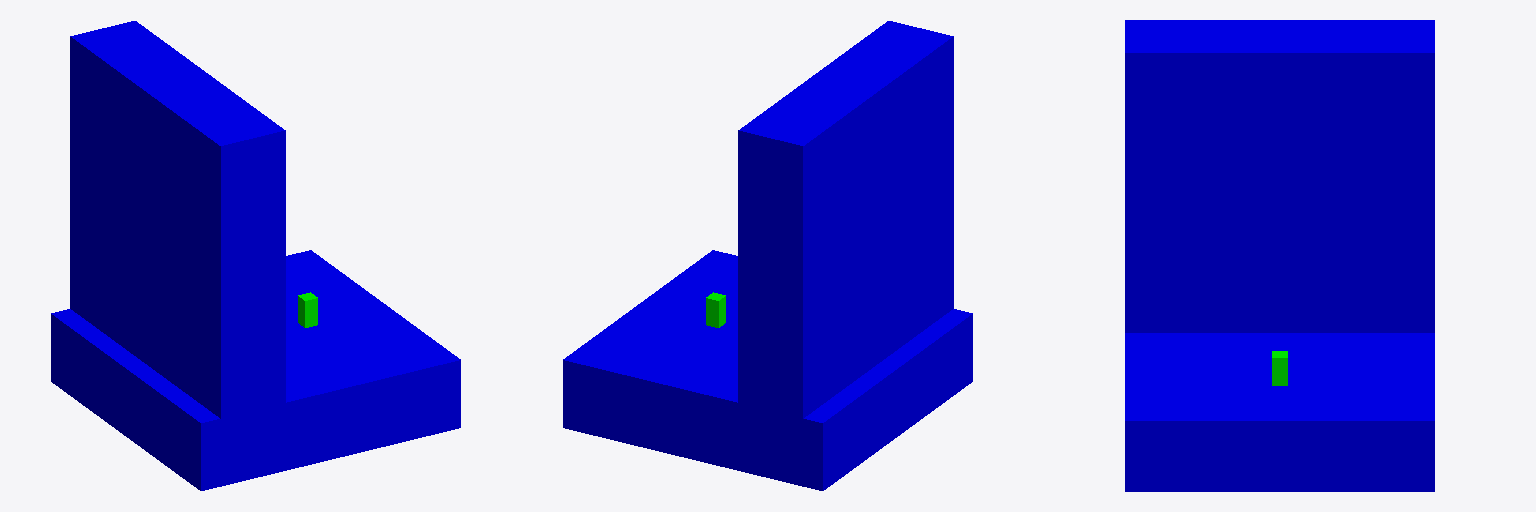
The robot description file, URDF, robot "abb_irb140":
<?xml version="1.0" ?>
<!-- =================================================================================== -->
<!-- |    This document was autogenerated by xacro from irb140.xacro                   | -->
<!-- |    EDITING THIS FILE BY HAND IS NOT RECOMMENDED                                 | -->
<!-- =================================================================================== -->
<robot name="abb_irb140" xmlns:xacro="http://ros.org/wiki/xacro">
  <!-- link list -->
  <link name="base_link">
    <visual>
      <origin rpy="0 0 0" xyz="0 0 0"/>
      <geometry>
        <mesh filename="package://abb_irb140_support/meshes/irb140/visual/base_link.stl" scale="0.01 0.01 0.01"/>
      </geometry>
      <material name="abb_orange">
        <color rgba="1 0.43 0 1"/>
      </material>
    </visual>
    <collision>
      <geometry>
        <mesh filename="package://abb_irb140_support/meshes/irb140/collision/base_link.stl" scale="0.01 0.01 0.01"/>
      </geometry>
      <material name="yellow">
        <color rgba="0 1 1 1"/>
      </material>
    </collision>
  </link>
  <link name="link_1">
    <visual>
      <origin rpy="0 0 0" xyz="0 0 0"/>
      <geometry>
        <mesh filename="package://abb_irb140_support/meshes/irb140/visual/link_1.stl" scale="0.01 0.01 0.01"/>
      </geometry>
      <material name="abb_orange"/>
    </visual>
    <collision>
      <origin rpy="0 0 0" xyz="0 0 0"/>
      <geometry>
        <mesh filename="package://abb_irb140_support/meshes/irb140/collision/link_1.stl" scale="0.01 0.01 0.01"/>
      </geometry>
      <material name="yellow"/>
    </collision>
  </link>
  <link name="link_2">
    <visual>
      <origin rpy="0 0 0" xyz="-0.07 0 -0.352"/>
      <geometry>
        <mesh filename="package://abb_irb140_support/meshes/irb140/visual/link_2.stl" scale="0.01 0.01 0.01"/>
      </geometry>
      <material name="abb_orange"/>
    </visual>
    <collision>
      <origin rpy="0 0 0" xyz="-0.07 0 -0.352"/>
      <geometry>
        <mesh filename="package://abb_irb140_support/meshes/irb140/collision/link_2.stl" scale="0.01 0.01 0.01"/>
      </geometry>
      <material name="yellow"/>
    </collision>
  </link>
  <link name="link_3">
    <visual>
      <origin rpy="0 0 0" xyz="-0.07 0.065 -0.712"/>
      <geometry>
        <mesh filename="package://abb_irb140_support/meshes/irb140/visual/link_3.stl" scale="0.01 0.01 0.01"/>
      </geometry>
      <material name="abb_orange"/>
    </visual>
    <collision>
      <origin rpy="0 0 0" xyz="-0.07 0.065 -0.712"/>
      <geometry>
        <mesh filename="package://abb_irb140_support/meshes/irb140/collision/link_3.stl" scale="0.01 0.01 0.01"/>
      </geometry>
      <material name="yellow"/>
    </collision>
  </link>
  <link name="link_4">
    <visual>
      <origin rpy="0 0 0" xyz="-0.309 0 -0.712"/>
      <geometry>
        <mesh filename="package://abb_irb140_support/meshes/irb140/visual/link_4.stl" scale="0.01 0.01 0.01"/>
      </geometry>
      <material name="abb_orange"/>
    </visual>
    <collision>
      <origin rpy="0 0 0" xyz="-0.309 0 -0.712"/>
      <geometry>
        <mesh filename="package://abb_irb140_support/meshes/irb140/collision/link_4.stl" scale="0.01 0.01 0.01"/>
      </geometry>
      <material name="yellow"/>
    </collision>
  </link>
  <link name="link_5">
    <visual>
      <origin rpy="0 0 0" xyz="-0.450 0 -0.712"/>
      <geometry>
        <mesh filename="package://abb_irb140_support/meshes/irb140/visual/link_5.stl" scale="0.01 0.01 0.01"/>
      </geometry>
      <material name="abb_orange"/>
    </visual>
    <collision>
      <origin rpy="0 0 0" xyz="-0.450 0 -0.712"/>
      <geometry>
        <mesh filename="package://abb_irb140_support/meshes/irb140/collision/link_5.stl" scale="0.01 0.01 0.01"/>
      </geometry>
      <material name="yellow"/>
    </collision>
  </link>
  <link name="link_6">
    <visual>
      <origin rpy="0 0 0" xyz="-0.515 0 -0.712"/>
      <geometry>
        <mesh filename="package://abb_irb140_support/meshes/irb140/visual/link_6.stl" scale="0.01 0.01 0.01"/>
      </geometry>
      <material name="abb_orange"/>
    </visual>
    <collision>
      <origin rpy="0 0 0" xyz="-0.515 0 -0.712"/>
      <geometry>
        <mesh filename="package://abb_irb140_support/meshes/irb140/collision/link_6.stl" scale="0.01 0.01 0.01"/>
      </geometry>
      <material name="yellow"/>
    </collision>
  </link>
  <link name="tool0"/>
  <!-- end of link list -->
  <!-- joint list -->
  <joint name="joint_1" type="revolute">
    <origin rpy="0 0 0" xyz="0 0 0"/>
    <parent link="base_link"/>
    <child link="link_1"/>
    <axis xyz="0 0 1"/>
    <limit effort="0" lower="-3.1416" upper="3.1416" velocity="3.4907"/>
  </joint>
  <joint name="joint_2" type="revolute">
    <origin rpy="0 0 0" xyz="0.070 0 0.352"/>
    <parent link="link_1"/>
    <child link="link_2"/>
    <axis xyz="0 1 0"/>
    <limit effort="0" lower="-1.5708" upper="1.9199" velocity="3.4907"/>
  </joint>
  <joint name="joint_3" type="revolute">
    <origin rpy="0 0 0" xyz="0 -0.065 0.360"/>
    <parent link="link_2"/>
    <child link="link_3"/>
    <axis xyz="0 1 0"/>
    <limit effort="0" lower="-4.0143" upper="0.87274434" velocity="4.5379"/>
  </joint>
  <joint name="joint_4" type="revolute">
    <origin rpy="0 0 0" xyz="0.239 0.065 0"/>
    <parent link="link_3"/>
    <child link="link_4"/>
    <axis xyz="1 0 0"/>
    <limit effort="0" lower="-3.4907" upper="3.4907" velocity="6.2832"/>
  </joint>
  <joint name="joint_5" type="revolute">
    <origin rpy="0 0 0" xyz="0.141 0 0"/>
    <parent link="link_4"/>
    <child link="link_5"/>
    <axis xyz="0 1 0"/>
    <limit effort="0" lower="-2.0071" upper="2.0071" velocity="6.2832"/>
  </joint>
  <joint name="joint_6" type="revolute">
    <origin rpy="0 0 0" xyz="0.065 0 0"/>
    <parent link="link_5"/>
    <child link="link_6"/>
    <axis xyz="1 0 0"/>
    <limit effort="0" lower="-6.9813" upper="6.9813" velocity="7.854"/>
  </joint>
  <joint name="joint_6-tool0" type="fixed">
    <parent link="link_6"/>
    <child link="tool0"/>
    <origin rpy="0 0 0" xyz="0 0 0"/>
  </joint>
  <!-- end of joint list -->
  <!-- ROS base_link to ABB World Coordinates transform  1.5708-->
  <link name="base"/>
  <joint name="base_link-base" type="fixed">
    <origin rpy="0 0 0" xyz="0 0 0"/>
    <parent link="base_link"/>
    <child link="base"/>
  </joint>

  <link name="plane_link">
    <visual>
      <origin rpy="0 0 0" xyz="0 0 -0.25"/>
      <geometry>
        <box size="2.0 2.0 0.5"/>
      </geometry>
      <material name="blue">
        <color rgba="0 0 1 1"/>
      </material>
    </visual>
    <collision>
      <origin rpy="0 0 0" xyz="0 0 -0.26"/>
      <geometry>
        <box size="2.0 2.0 0.5"/>
      </geometry>
    </collision>
  </link>

  <link name="obj_position_link">
    <visual>
      <origin rpy="0 0 0" xyz="0 0 0.1"/>
      <geometry>
        <box size="0.1 0.1 0.2"/>
      </geometry>
      <material name="green">
        <color rgba="0 1 0 1"/>
      </material>
    </visual>
    <collision>
      <origin rpy="0 0 0" xyz="0 0 0.1"/>
      <geometry>
        <box size="0.1 0.1 0.2"/>
      </geometry>
    </collision>
  </link>

  <link name="wall_link">
    <visual>
      <origin rpy="0 0 0" xyz="0 0 1.0"/>
      <geometry>
        <box size="0.5 2.0 2.0"/>
      </geometry>
      <material name="blue">
        <color rgba="0 0 1 1"/>
      </material>
    </visual>
    <collision>
      <origin rpy="0 0 0" xyz="0 0 1.0"/>
      <geometry>
        <box size="0.5 2.0 2.0"/>
      </geometry>
    </collision>
  </link>

  <joint name="base_link-plane_link" type="fixed">
    <origin rpy="0 0 0" xyz="0 0 0"/>
    <parent link="base_link"/>
    <child link="plane_link"/>
  </joint>

  <joint name="plane_link-obj_position_link" type="fixed">
    <origin rpy="0 0 0" xyz="0.4 0 0"/>
    <parent link="plane_link"/>
    <child link="obj_position_link"/>
  </joint>

  <joint name="base_link-wall_link" type="fixed">
    <origin rpy="0 0 0" xyz="-0.6 0 0"/>
    <parent link="base_link"/>
    <child link="wall_link"/>
  </joint>

</robot>

--- Render facts (derived) ---
The picture shows the robot from 3 angles, left to right: view 1: azimuth 30°, elevation 25°; view 2: azimuth 150°, elevation 25°; view 3: azimuth 270°, elevation 25°; orthographic projection.
Robot: abb_irb140 — 12 links, 11 joints (6 revolute, 5 fixed); root link base_link; default pose: all joints at 0.
Visible links, largest first — view 1: wall_link, plane_link, obj_position_link; view 2: wall_link, plane_link, obj_position_link; view 3: wall_link, plane_link, obj_position_link.
Boxes of the visible links, x1,y1,x2,y2 form: wall_link: (70, 21, 285, 418); plane_link: (51, 250, 460, 490); obj_position_link: (298, 292, 317, 327); wall_link: (738, 21, 953, 418); plane_link: (563, 250, 972, 490); obj_position_link: (706, 292, 725, 327); wall_link: (1125, 20, 1434, 332); plane_link: (1125, 333, 1434, 491); obj_position_link: (1272, 351, 1287, 385).
Bounding box of the posed robot: 2 × 2 × 2.5 m (x, y, z).
0 mesh visuals loaded from 7 distinct referenced files (none loaded); not drawn: 7 (reference not matched to a file when rendering).